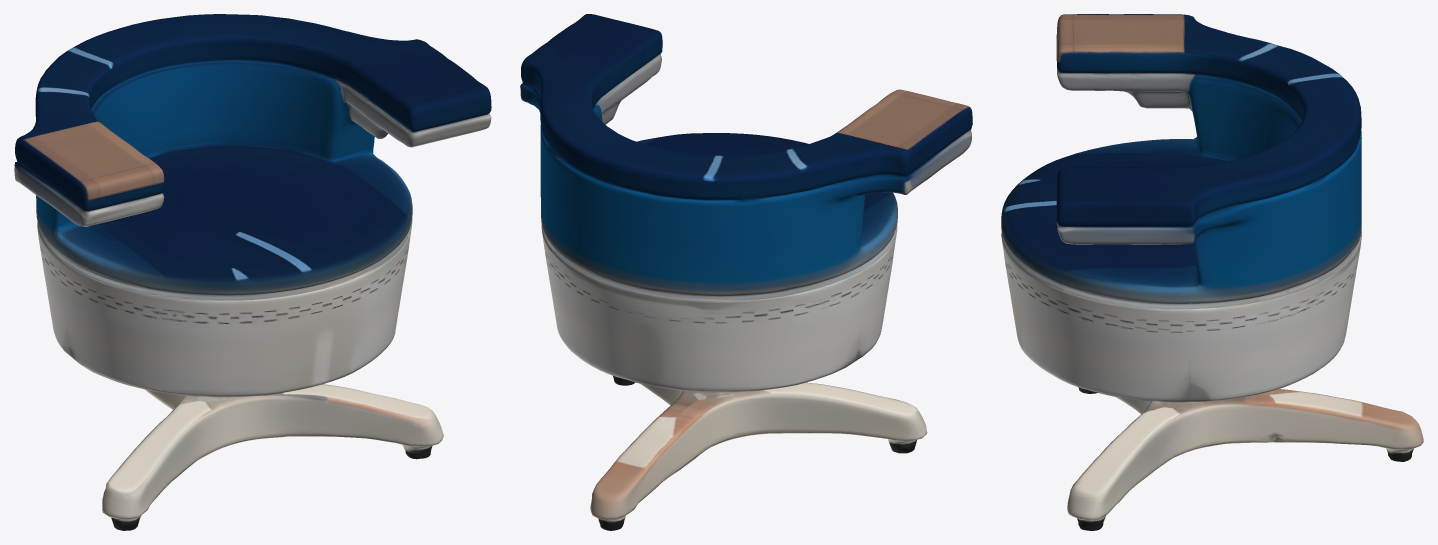
Rendered from Ubody-EMS-Kegel-Chair.glb.
The picture shows the model from 3 angles, left to right: view 1: azimuth 30°, elevation 25°; view 2: azimuth 150°, elevation 25°; view 3: azimuth 270°, elevation 25°; orthographic projection. The views are drawn at different scales.
Visible parts, largest first — view 1: model; view 2: model; view 3: model.
Boxes of the visible parts, left/top/right/bottom form: model: left=14, top=14, right=491, bottom=530; model: left=520, top=14, right=972, bottom=530; model: left=1001, top=14, right=1423, bottom=530.
Bounding box in the file's own units: 1.91 × 1.63 × 1.78.
Materials: 1 (1 with a texture image).
